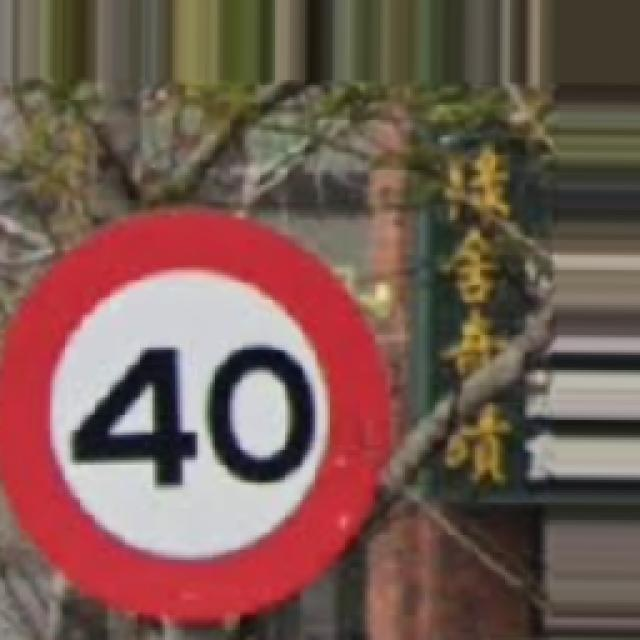Speed Limit -40-: (5, 210, 388, 620)
